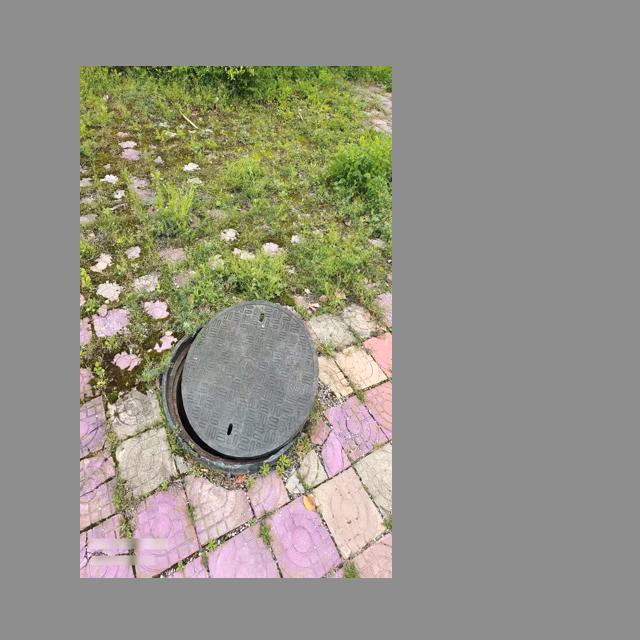uncovered: (161, 302, 319, 474)
